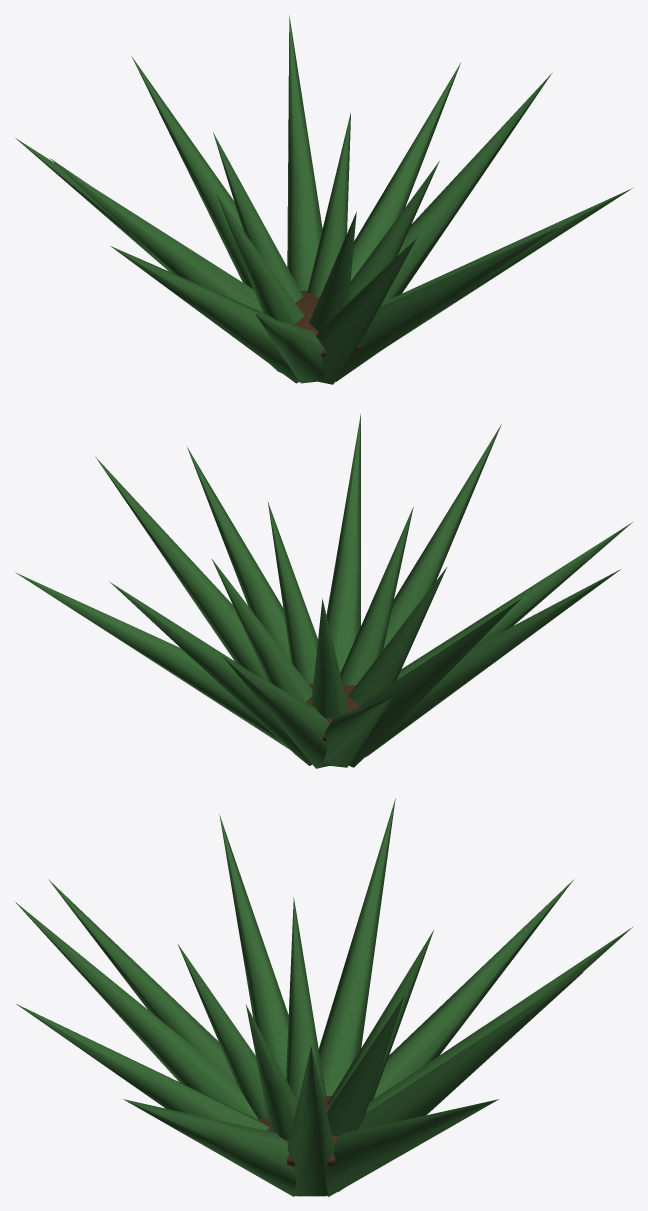
The model's file is fern.gltf.
3 renders of one model, top to bottom at view 1: azimuth 30°, elevation 25°; view 2: azimuth 150°, elevation 25°; view 3: azimuth 270°, elevation 25°, orthographic. The views are drawn at different scales.
Visible parts, largest first — view 1: Frond10, Frond3, Frond1, Frond6, Frond7, Frond4, Frond11, Frond9, Inner5, Inner3, Inner4, Frond5 (+5 smaller); view 2: Frond1, Frond3, Frond11, Frond7, Frond6, Frond4, Frond2, Frond10, Frond9, Inner2, Inner1, Frond5 (+4 smaller); view 3: Frond7, Frond4, Frond8, Frond10, Frond11, Frond2, Frond6, Frond3, Frond5, Frond1, Inner3, Inner2 (+4 smaller).
Boxes of the visible parts, left/top/right/bottom form: Frond10: left=287, top=15, right=322, bottom=290; Frond3: left=336, top=228, right=556, bottom=381; Frond1: left=383, top=72, right=552, bottom=301; Frond6: left=110, top=246, right=299, bottom=383; Frond7: left=50, top=158, right=282, bottom=373; Frond4: left=313, top=238, right=416, bottom=384; Frond11: left=350, top=63, right=460, bottom=281; Frond9: left=131, top=56, right=253, bottom=289; Inner5: left=307, top=112, right=350, bottom=297; Inner3: left=216, top=194, right=304, bottom=325; Inner4: left=213, top=132, right=303, bottom=302; Frond5: left=255, top=313, right=324, bottom=383; Frond1: left=95, top=456, right=267, bottom=681; Frond3: left=326, top=414, right=360, bottom=672; Frond11: left=15, top=572, right=289, bottom=749; Frond7: left=349, top=598, right=521, bottom=767; Frond6: left=366, top=569, right=620, bottom=756; Frond4: left=383, top=424, right=501, bottom=649; Frond2: left=187, top=447, right=291, bottom=661; Frond10: left=109, top=581, right=312, bottom=765; Frond9: left=222, top=656, right=331, bottom=768; Inner2: left=340, top=506, right=413, bottom=685; Inner1: left=267, top=501, right=317, bottom=683; Frond5: left=397, top=522, right=632, bottom=679; Frond7: left=318, top=798, right=395, bottom=1095; Frond4: left=15, top=902, right=258, bottom=1119; Frond8: left=373, top=879, right=573, bottom=1099; Frond10: left=338, top=972, right=583, bottom=1191; Frond11: left=325, top=1099, right=498, bottom=1196; Frond2: left=123, top=1099, right=296, bottom=1196; Frond6: left=219, top=814, right=288, bottom=1078; Frond3: left=16, top=1004, right=269, bottom=1130; Frond5: left=48, top=879, right=234, bottom=1080; Frond1: left=287, top=1046, right=334, bottom=1196; Inner3: left=286, top=897, right=326, bottom=1101; Inner2: left=177, top=943, right=267, bottom=1119.
Bounding box in the file's own units: 1.04 × 0.4975 × 1.05.
